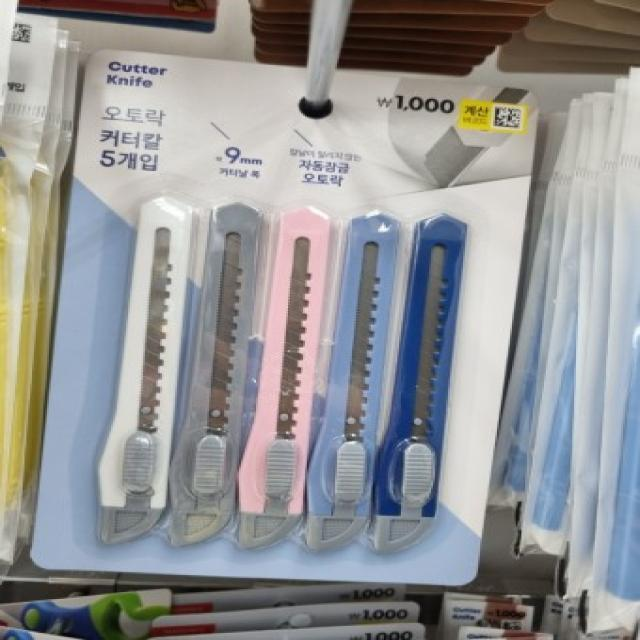cutter: (223, 206, 336, 554), (294, 208, 406, 558), (366, 214, 478, 558), (168, 200, 270, 546), (93, 199, 192, 546)
